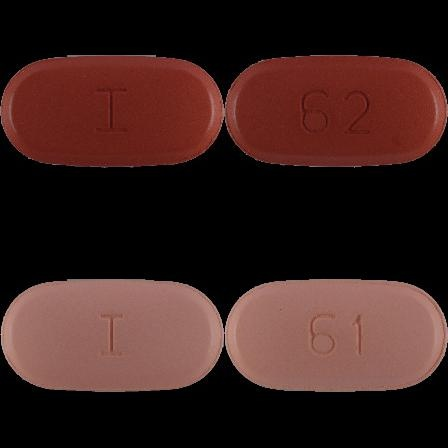50090-1412: (0, 0, 224, 224)
